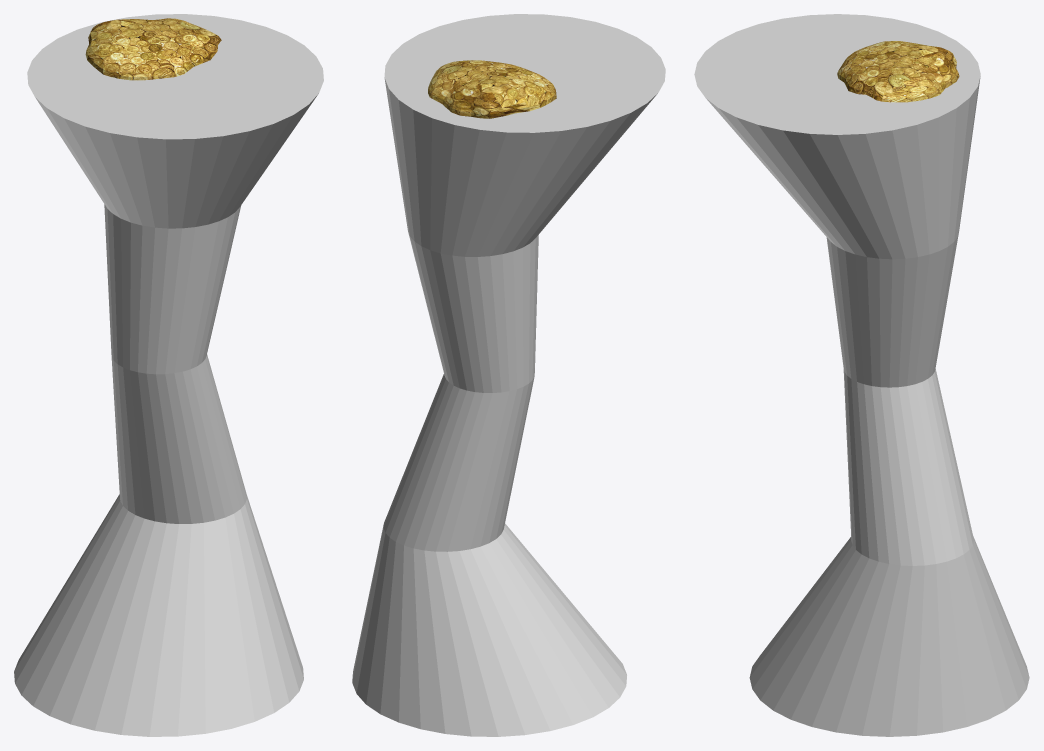
Rendered from dragonLair.fbx.
3 views of the same model, side by side, from view 1: azimuth 30°, elevation 25°; view 2: azimuth 150°, elevation 25°; view 3: azimuth 270°, elevation 25° (orthographic). The views are drawn at different scales.
Parts seen in each view (by area): view 1: Cylinder.001, Sphere; view 2: Cylinder.001, Sphere; view 3: Cylinder.001, Sphere.
Part boxes in pixels (box(x1,y1,x2,y2)): Cylinder.001: box(14, 14, 323, 736); Sphere: box(85, 18, 221, 80); Cylinder.001: box(352, 14, 665, 736); Sphere: box(428, 60, 556, 118); Cylinder.001: box(694, 14, 1029, 736); Sphere: box(837, 41, 959, 102).
Bounding box in the file's own units: 1041 × 2413 × 1184.
